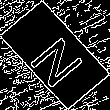N_NE: (21, 23, 89, 87)
